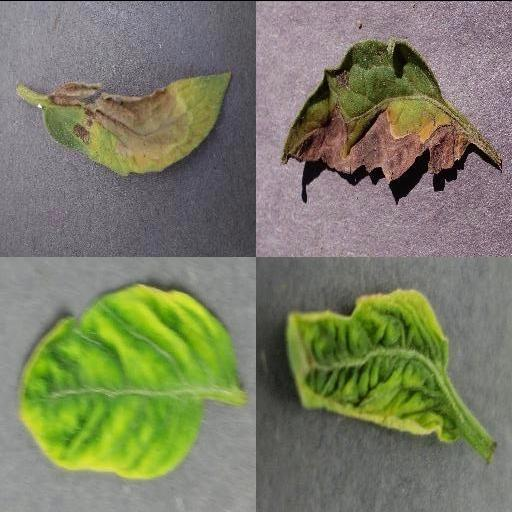Early Blight: (279, 41, 473, 191)
Late Blight: (41, 67, 233, 175)
Yellow Leaf Curl Virus: (16, 281, 240, 479), (285, 287, 457, 443)
